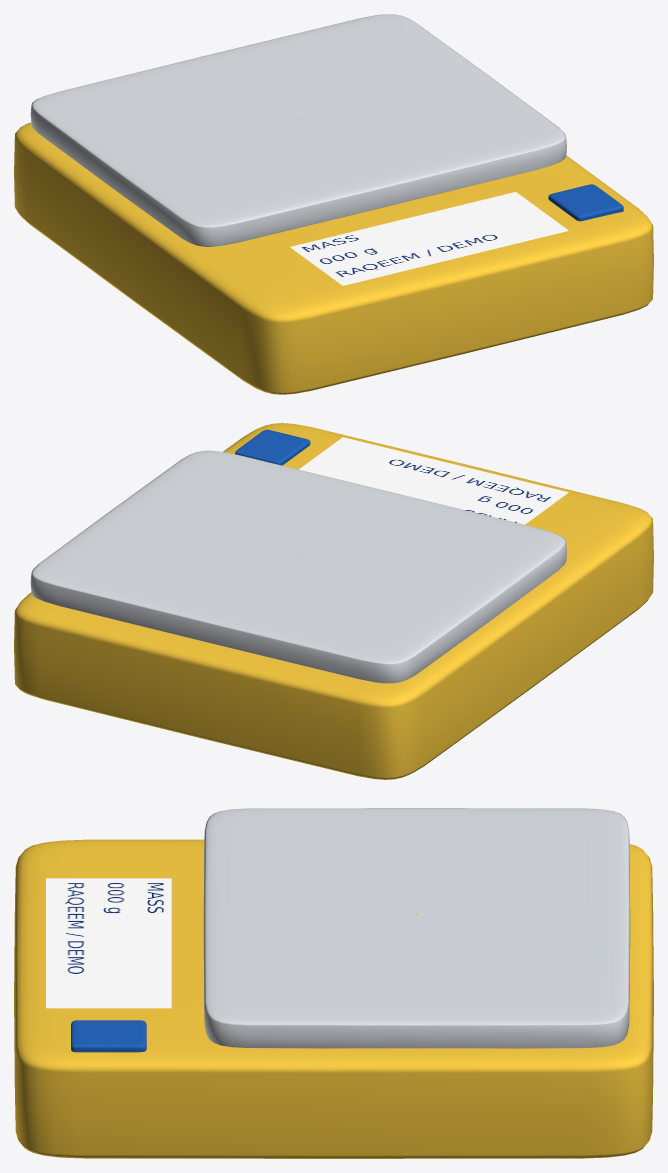
The model's file is digital_kitchen_scale.glb.
3 renders of one model, top to bottom at view 1: azimuth 30°, elevation 25°; view 2: azimuth 150°, elevation 25°; view 3: azimuth 270°, elevation 25°, orthographic. The views are drawn at different scales.
Parts seen in each view (by area): view 1: Scale_Platform, Scale_Base, Scale_LCD, Tare_Button; view 2: Scale_Platform, Scale_Base, Scale_LCD, Tare_Button; view 3: Scale_Platform, Scale_Base, Scale_LCD, Tare_Button.
Part boxes in pixels (left/top/right/bottom): Scale_Platform: left=30, top=14, right=566, bottom=246; Scale_Base: left=14, top=118, right=653, bottom=394; Scale_LCD: left=290, top=192, right=568, bottom=285; Tare_Button: left=548, top=184, right=623, bottom=221; Scale_Platform: left=30, top=450, right=566, bottom=683; Scale_Base: left=14, top=423, right=653, bottom=779; Scale_LCD: left=299, top=437, right=568, bottom=524; Tare_Button: left=235, top=429, right=310, bottom=465; Scale_Platform: left=203, top=808, right=630, bottom=1048; Scale_Base: left=14, top=839, right=653, bottom=1158; Scale_LCD: left=46, top=878, right=171, bottom=1008; Tare_Button: left=71, top=1020, right=146, bottom=1052.
Size of the model in its own units: 0.23 by 0.0635 by 0.27.
Materials: 4 (1 with a texture image).
